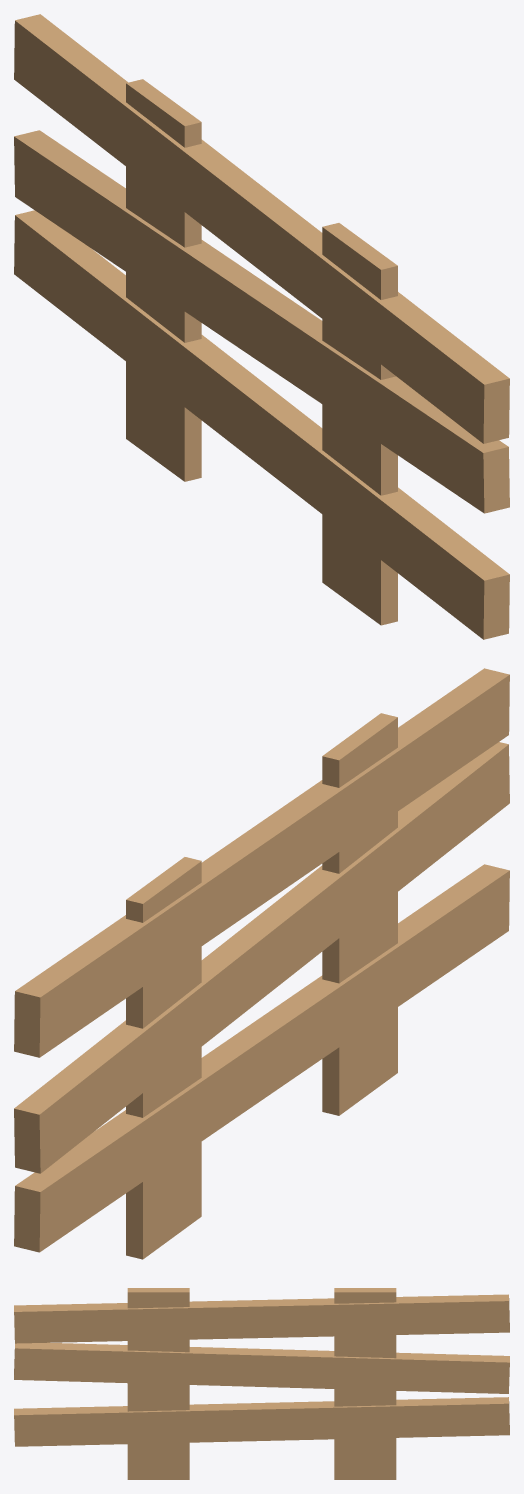
Rendered from Fence-col.glb.
The picture shows the model from 3 angles, top to bottom: view 1: azimuth 30°, elevation 25°; view 2: azimuth 150°, elevation 25°; view 3: azimuth 270°, elevation 25°; orthographic projection. The views are drawn at different scales.
Parts seen in each view (by area): view 1: Fence-col; view 2: Fence-col; view 3: Fence-col.
Part boxes in pixels (x1=…): Fence-col: x1=14, y1=14, x2=509, y2=639; Fence-col: x1=14, y1=668, x2=509, y2=1259; Fence-col: x1=14, y1=1288, x2=509, y2=1479.
Bounding box in the file's own units: 0.1505 × 2 × 4.8.
